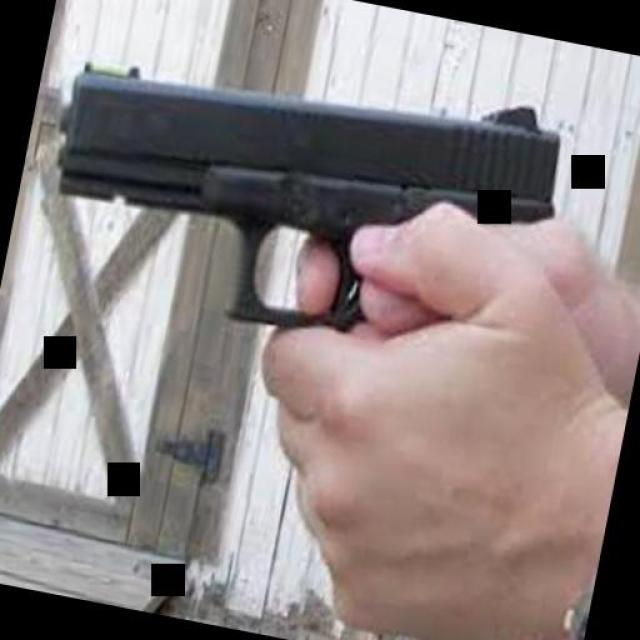gun: (9, 6, 568, 392)
